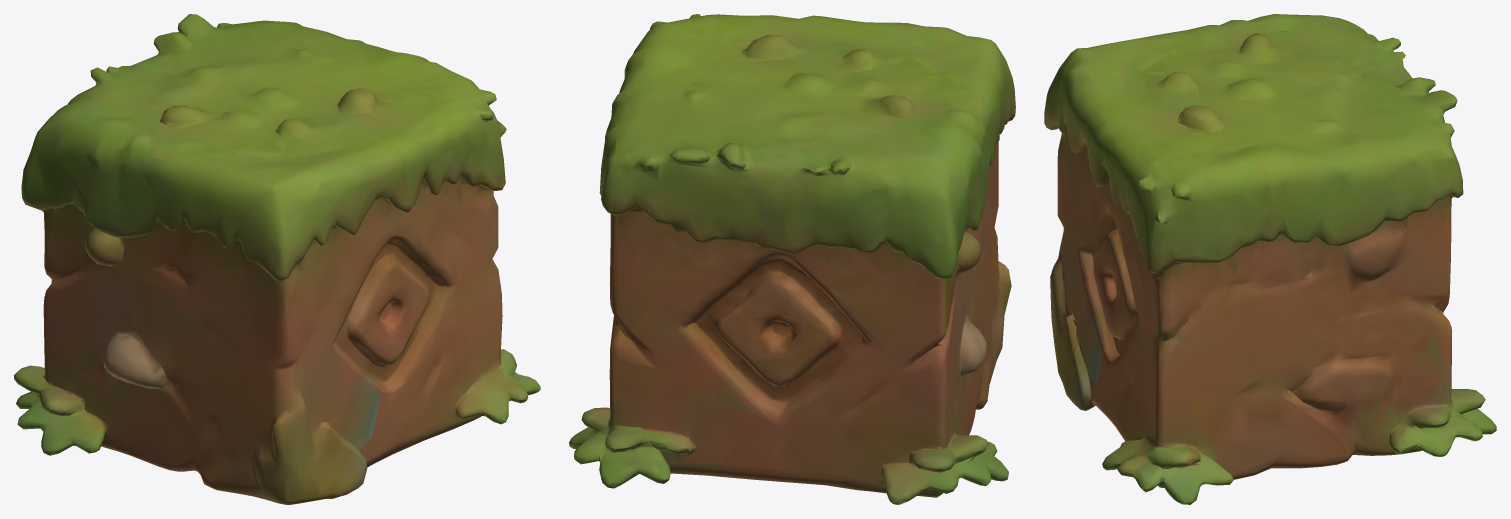
The model's file is bloque_hierba.glb.
3 renders of one model, left to right at view 1: azimuth 30°, elevation 25°; view 2: azimuth 150°, elevation 25°; view 3: azimuth 270°, elevation 25°, orthographic. The views are drawn at different scales.
Parts seen in each view (by area): view 1: bloque_hierba_malla; view 2: bloque_hierba_malla; view 3: bloque_hierba_malla.
Part boxes in pixels (x1,y1,x2,y2): bloque_hierba_malla: (14,14,540,504); bloque_hierba_malla: (569,14,1015,504); bloque_hierba_malla: (1044,14,1496,504).
Bounding box in the file's own units: 0.1481 × 0.1111 × 0.137.
Materials: 1 (1 with a texture image).
